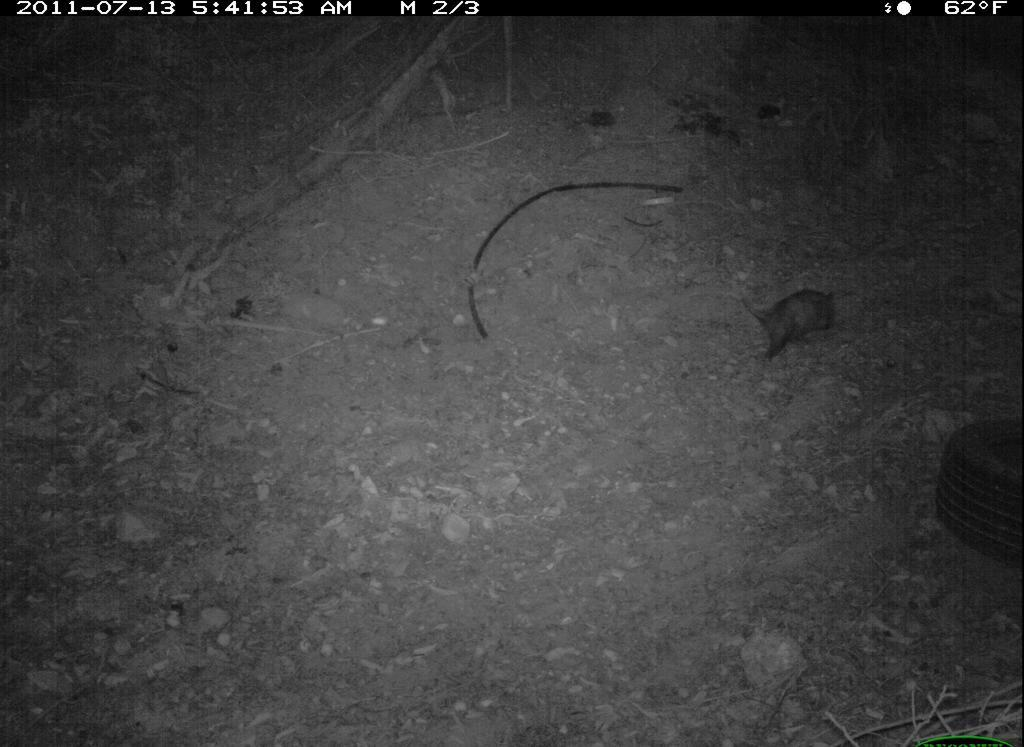opossum: (742, 268, 838, 370)
